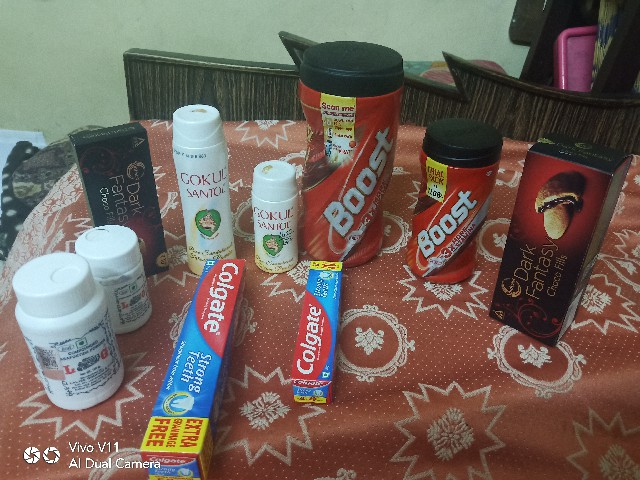boost big: (293, 37, 405, 266)
boost small: (401, 102, 504, 280)
colgatetoothpaste big: (139, 253, 253, 477)
colgatetoothpaste small: (280, 260, 348, 407)
darkfantasy big: (491, 113, 635, 349)
darkfantasy small: (69, 116, 167, 277)
gokulsantol big: (161, 94, 240, 270)
gokulsantol small: (248, 160, 300, 278)
lgasafoetidapowder large: (11, 248, 120, 425)
lgasafoetidapowder small: (73, 224, 156, 330)
